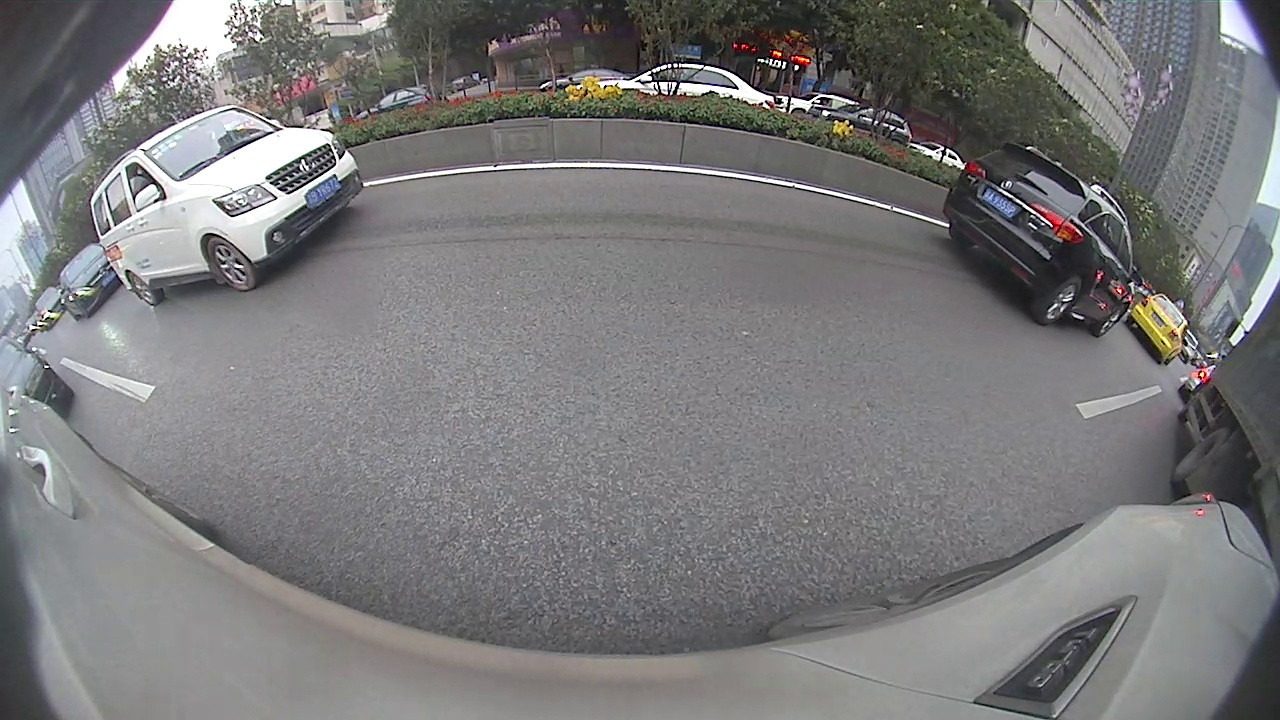car: (88, 104, 365, 301), (943, 140, 1139, 336), (54, 244, 130, 320), (1130, 288, 1189, 366)
front: (206, 237, 255, 291), (1096, 305, 1128, 335)
rear: (1036, 276, 1083, 325), (127, 272, 163, 306)
